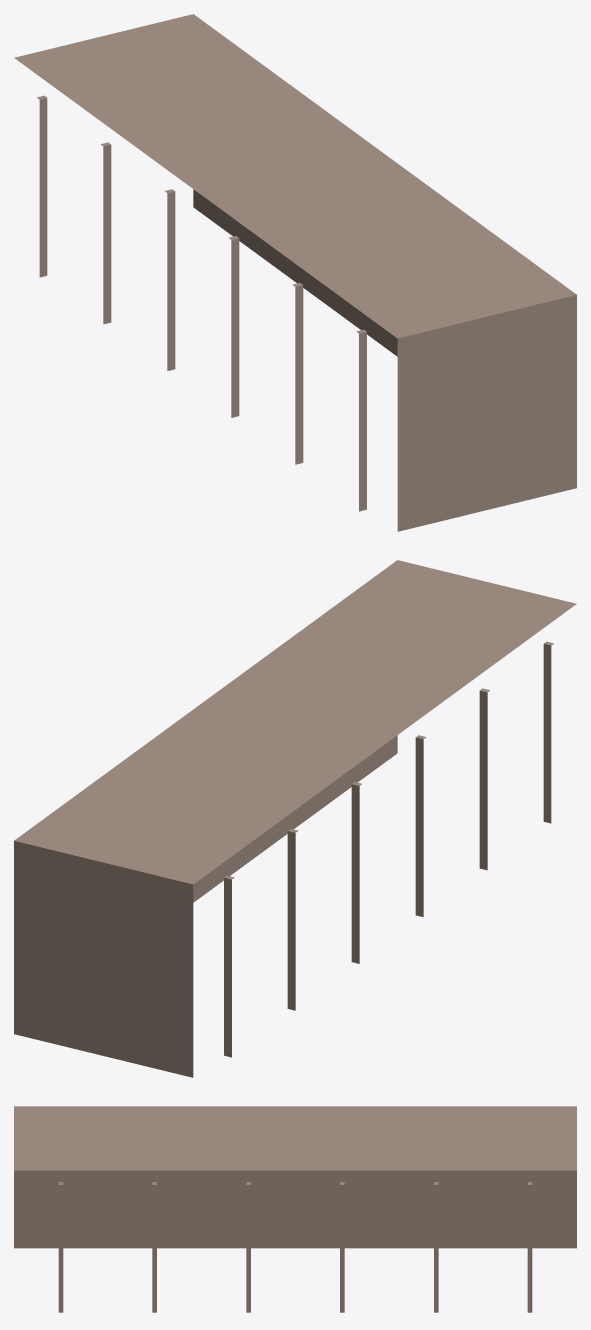
The model's file is land_container_1bo.glb.
3 renders of one model, top to bottom at view 1: azimuth 30°, elevation 25°; view 2: azimuth 150°, elevation 25°; view 3: azimuth 270°, elevation 25°, orthographic. The views are drawn at different scales.
Size of the model in its own units: 2.94 by 2.78 by 10.
